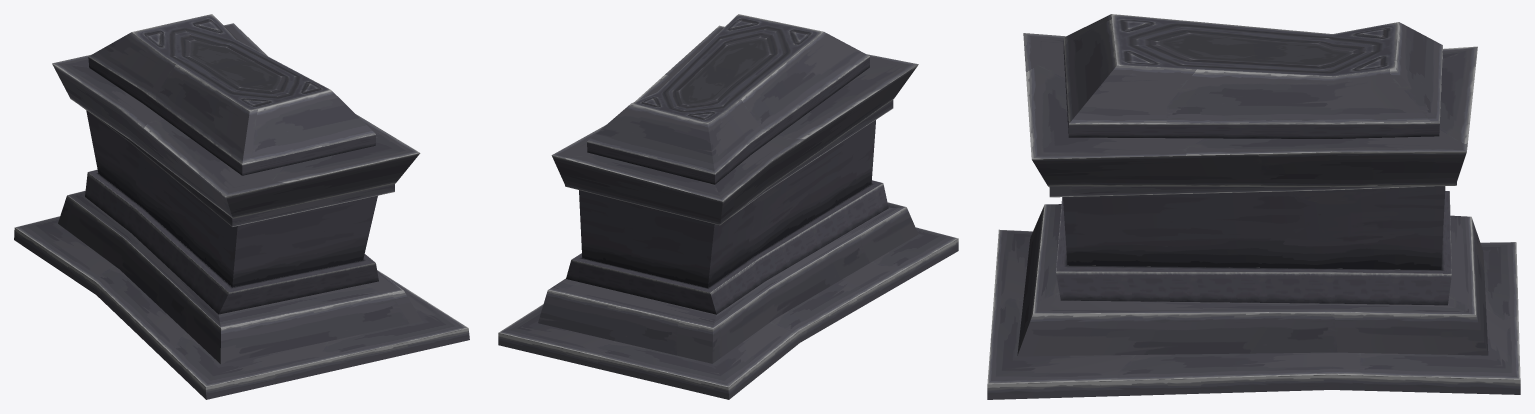
Rendered from SM_PROP_tomb_dungeon_01.fbx.
3 renders of one model, left to right at view 1: azimuth 30°, elevation 25°; view 2: azimuth 150°, elevation 25°; view 3: azimuth 270°, elevation 25°, orthographic. The views are drawn at different scales.
Visible parts, largest first — view 1: SM_PROP_tomb_dungeon_01, SM_PROP_tomb_lid_dungeon_01; view 2: SM_PROP_tomb_dungeon_01, SM_PROP_tomb_lid_dungeon_01; view 3: SM_PROP_tomb_dungeon_01, SM_PROP_tomb_lid_dungeon_01.
Part boxes in pixels (x1,y1,x2,y2): SM_PROP_tomb_dungeon_01: [14, 107, 469, 399]; SM_PROP_tomb_lid_dungeon_01: [52, 14, 420, 218]; SM_PROP_tomb_dungeon_01: [498, 100, 958, 399]; SM_PROP_tomb_lid_dungeon_01: [551, 14, 918, 225]; SM_PROP_tomb_dungeon_01: [987, 182, 1520, 399]; SM_PROP_tomb_lid_dungeon_01: [1023, 14, 1477, 187].
Size of the model in its own units: 229 by 197 by 334.
